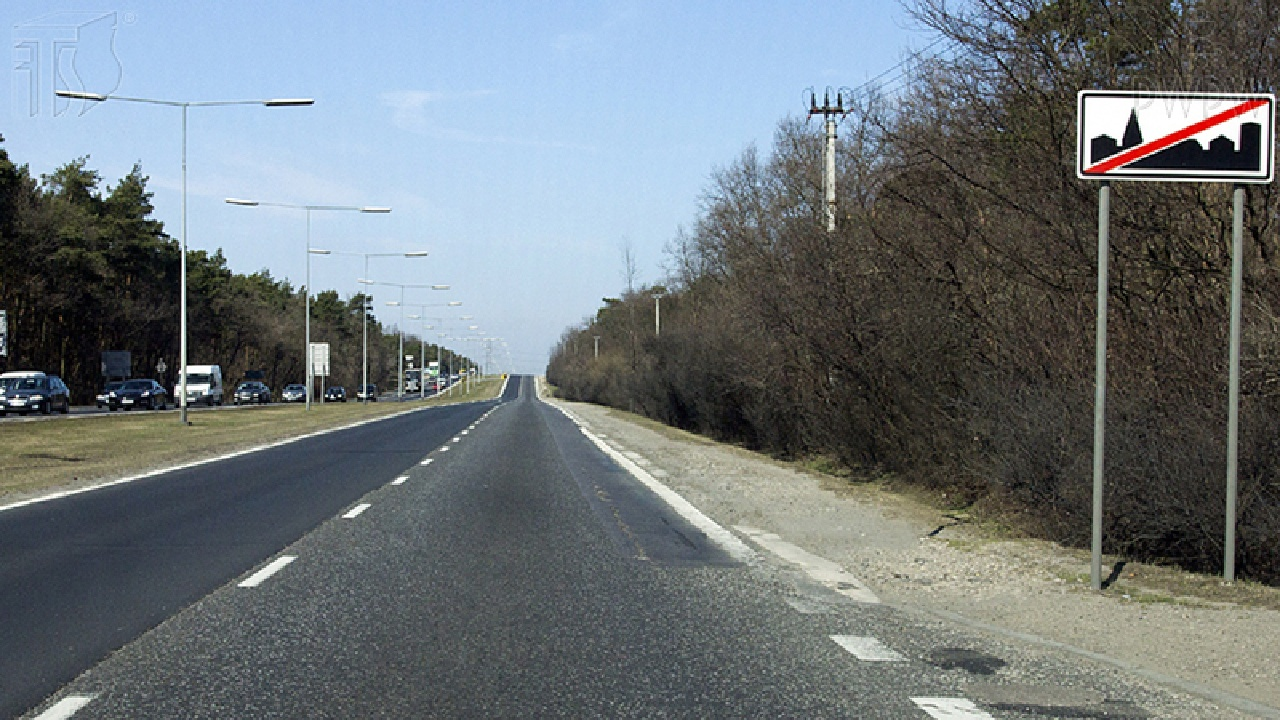D43: (1076, 91, 1275, 189)
